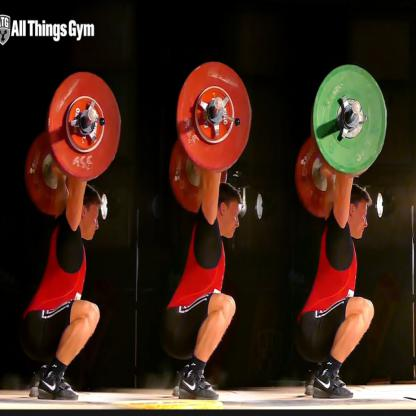Barbell: (171, 53, 256, 178), (310, 61, 395, 177), (46, 66, 124, 185)
